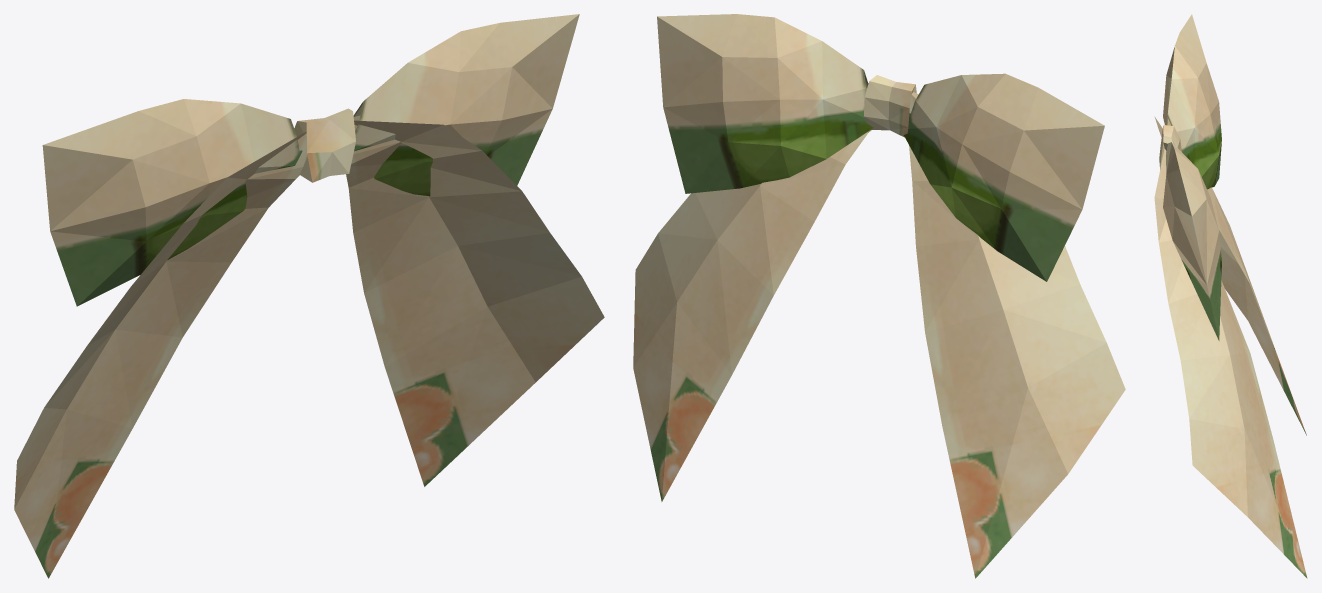
The model's file is skinSource0HIE.obj.
3 views of the same model, side by side, from view 1: azimuth 30°, elevation 25°; view 2: azimuth 150°, elevation 25°; view 3: azimuth 270°, elevation 25° (orthographic). The views are drawn at different scales.
Visible parts, largest first — view 1: skinSource0HIE; view 2: skinSource0HIE; view 3: skinSource0HIE.
Part boxes in pixels (x1,y1,x2,y2): skinSource0HIE: (14,14,604,578); skinSource0HIE: (633,14,1125,578); skinSource0HIE: (1154,14,1307,578).
Bounding box in the file's own units: 22.62 × 19.53 × 6.6.
